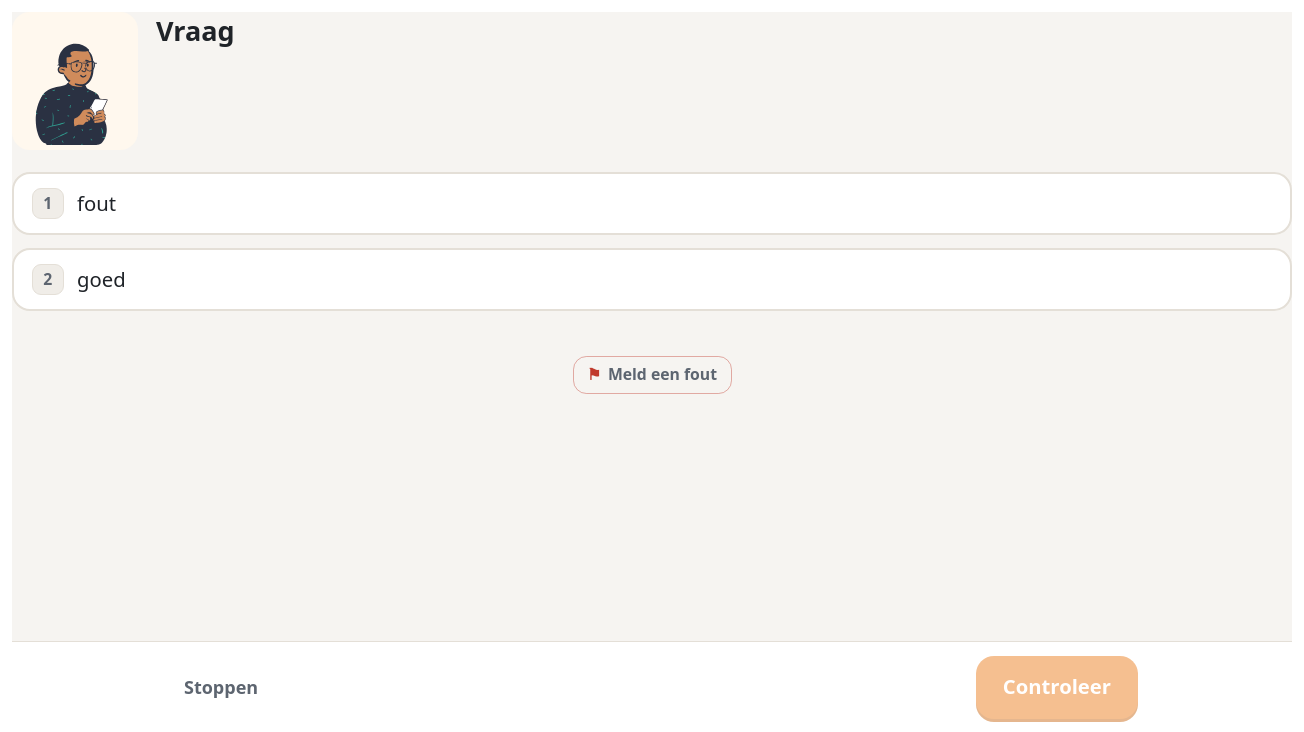
continuing › Enter checks, the next Enter continues, Escape leaves
The width and height of the screenshot is (1304, 732).
Step 1. Click the button "2 goed" → point(48, 279), box [12,248,1292,311]
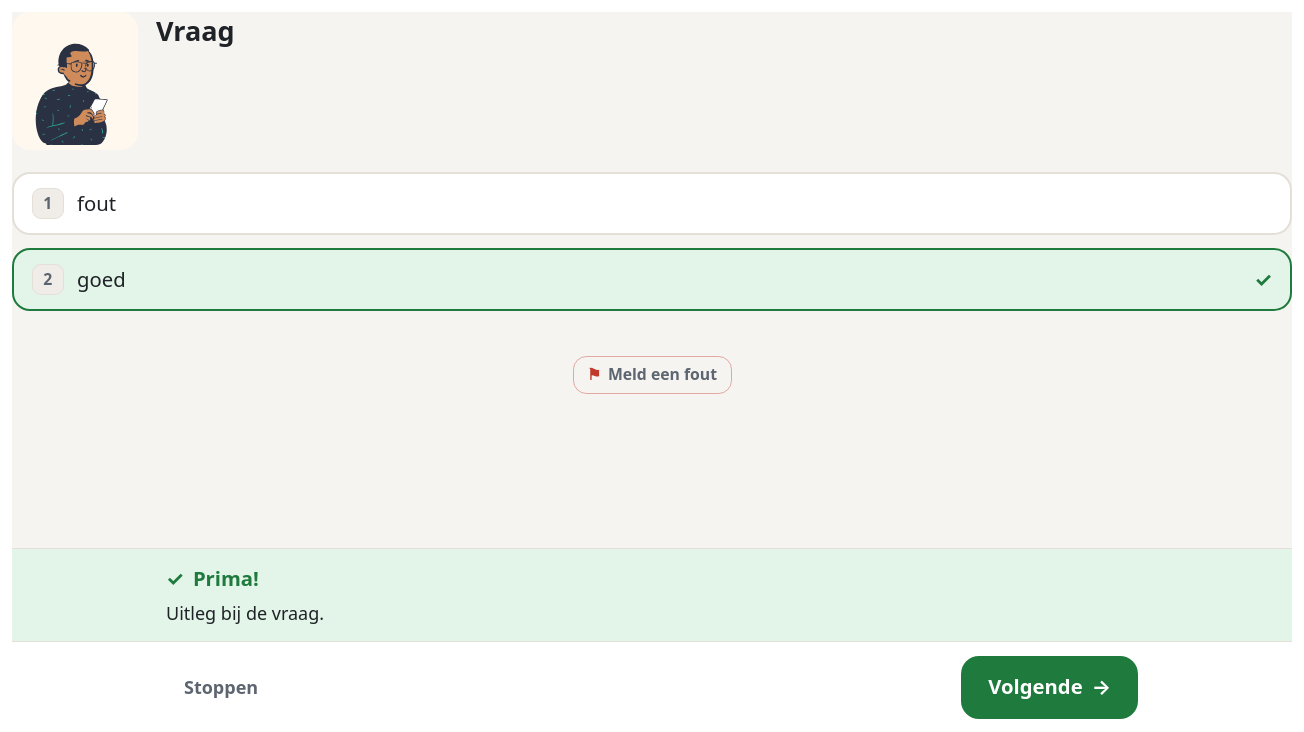
Expected: the message "✓ Prima! Uitleg bij de vraag." is shown, [12,549,1292,642]
